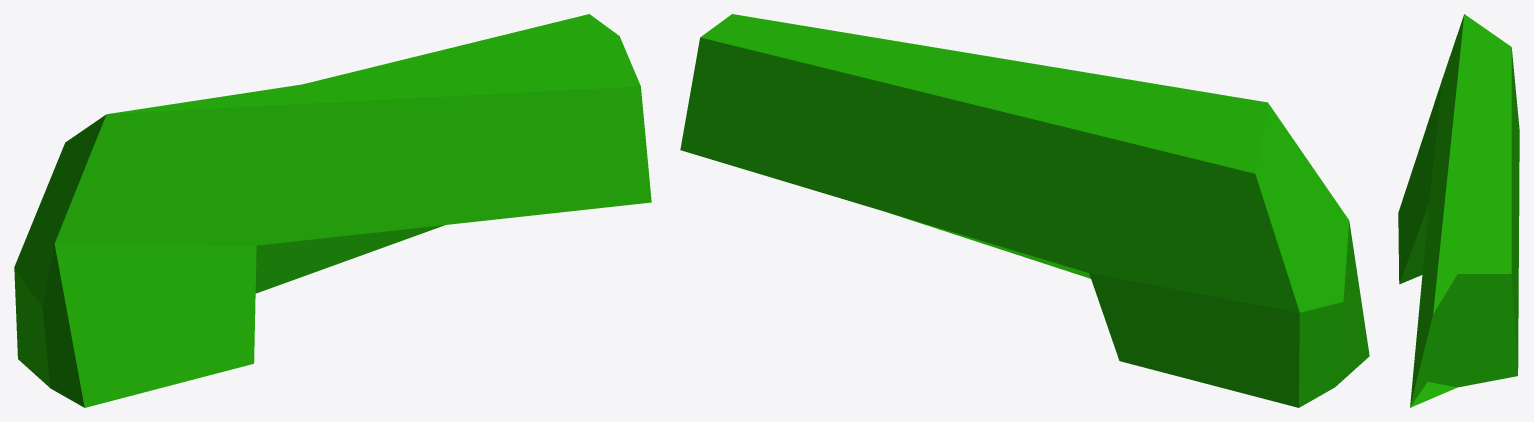
File: pistol.glb
3 views of the same model, side by side, from view 1: azimuth 30°, elevation 25°; view 2: azimuth 150°, elevation 25°; view 3: azimuth 270°, elevation 25° (orthographic). The views are drawn at different scales.
Parts seen in each view (by area): view 1: Cube; view 2: Cube; view 3: Cube.
Part boxes in pixels (<box>): Cube: <box>14,14,651,407</box>; Cube: <box>680,14,1369,407</box>; Cube: <box>1398,14,1519,407</box>.
Size of the model in its own units: 0.4667 by 0.1935 by 0.0931.
